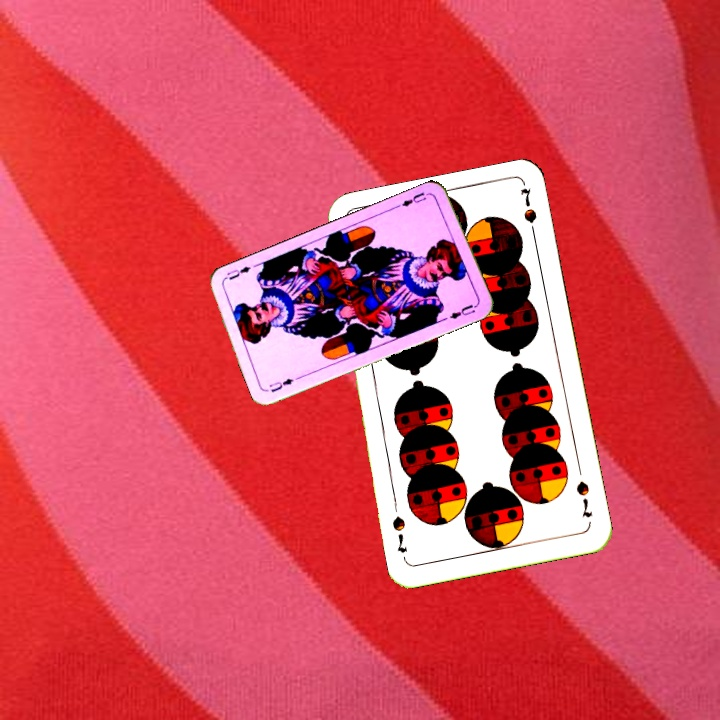EU: (393, 188, 432, 210), (265, 374, 296, 395)
S7: (572, 477, 595, 520)
